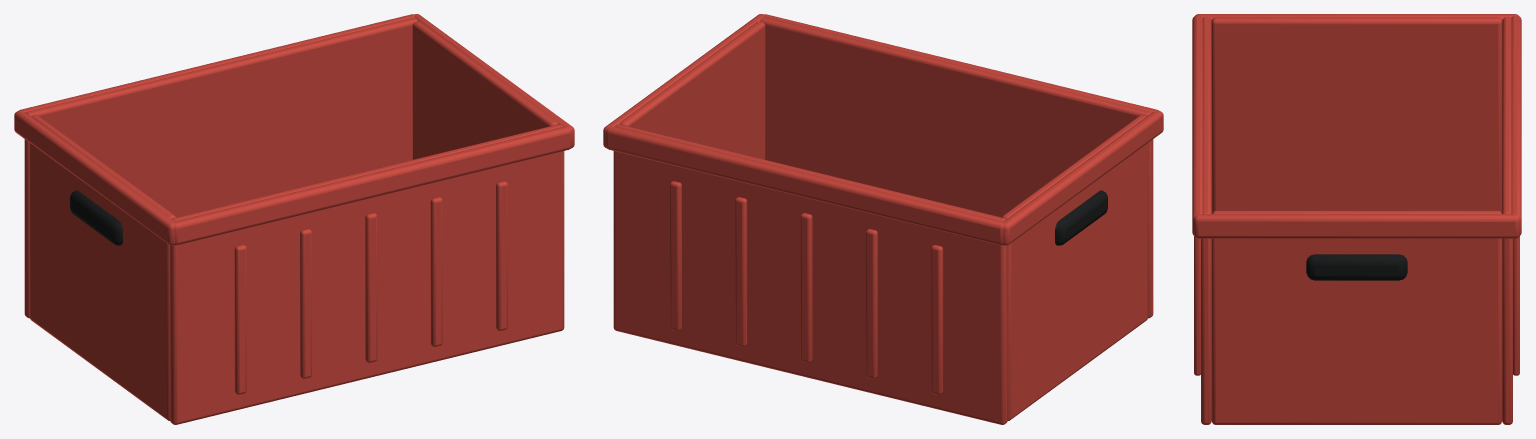
Rendered from crate_cans_blank.fbx.
3 renders of one model, left to right at view 1: azimuth 30°, elevation 25°; view 2: azimuth 150°, elevation 25°; view 3: azimuth 270°, elevation 25°, orthographic. The views are drawn at different scales.
Parts seen in each view (by area): view 1: crate_cans_blank; view 2: crate_cans_blank; view 3: crate_cans_blank.
Part boxes in pixels (box(x1,y1,x2,y2)): crate_cans_blank: box(14, 14, 574, 424); crate_cans_blank: box(603, 14, 1163, 424); crate_cans_blank: box(1192, 14, 1521, 424).
Bounding box in the file's own units: 0.622 × 0.3 × 0.422.
